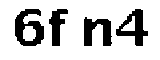4: (116, 9, 154, 47)
6: (12, 7, 45, 50)
f: (46, 7, 72, 51)
n: (79, 11, 115, 53)
